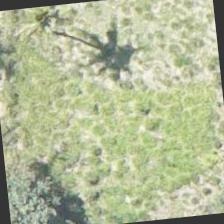Kelapa_Sawit: (0, 3, 87, 79)
